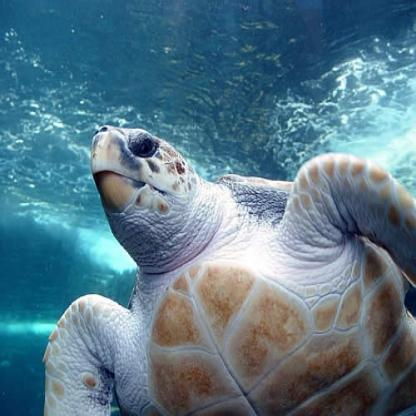turtle: (80, 113, 220, 279)
